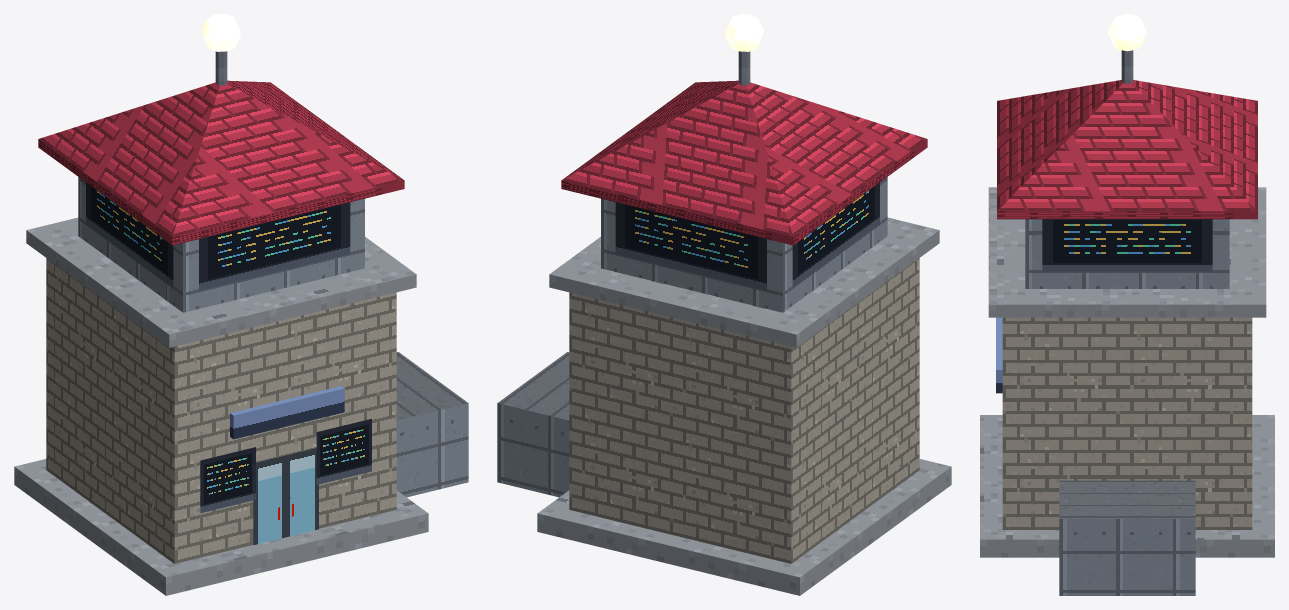
File: supervision.glb
3 views of the same model, side by side, from view 1: azimuth 30°, elevation 25°; view 2: azimuth 150°, elevation 25°; view 3: azimuth 270°, elevation 25° (orthographic). The views are drawn at different scales.
Visible parts, largest first — view 1: supervision; view 2: supervision; view 3: supervision.
Part boxes in pixels (x1=…): supervision: x1=14, y1=14, x2=468, y2=595; supervision: x1=497, y1=14, x2=951, y2=595; supervision: x1=980, y1=14, x2=1274, y2=595.
Bounding box in the file's own units: 6.8 × 9.35 × 5.2.
Materials: 10 (10 with a texture image).
